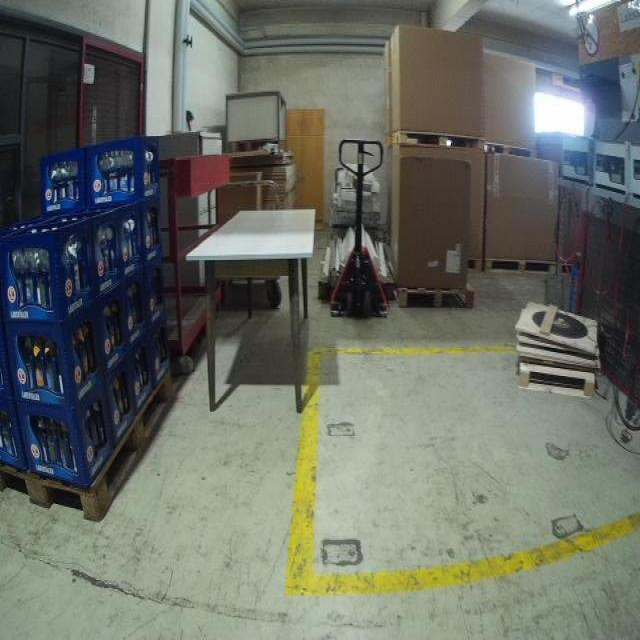pallet: (1, 368, 172, 524), (517, 362, 598, 401), (390, 127, 487, 155), (395, 285, 477, 310), (484, 255, 558, 279), (489, 138, 537, 162), (464, 258, 483, 277)
pallet_truck: (320, 135, 393, 322)
